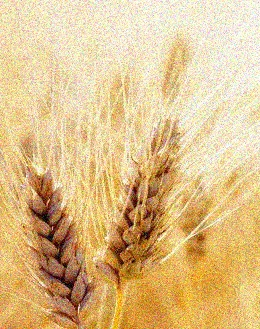wheat: (105, 58, 214, 309), (1, 126, 98, 327)
